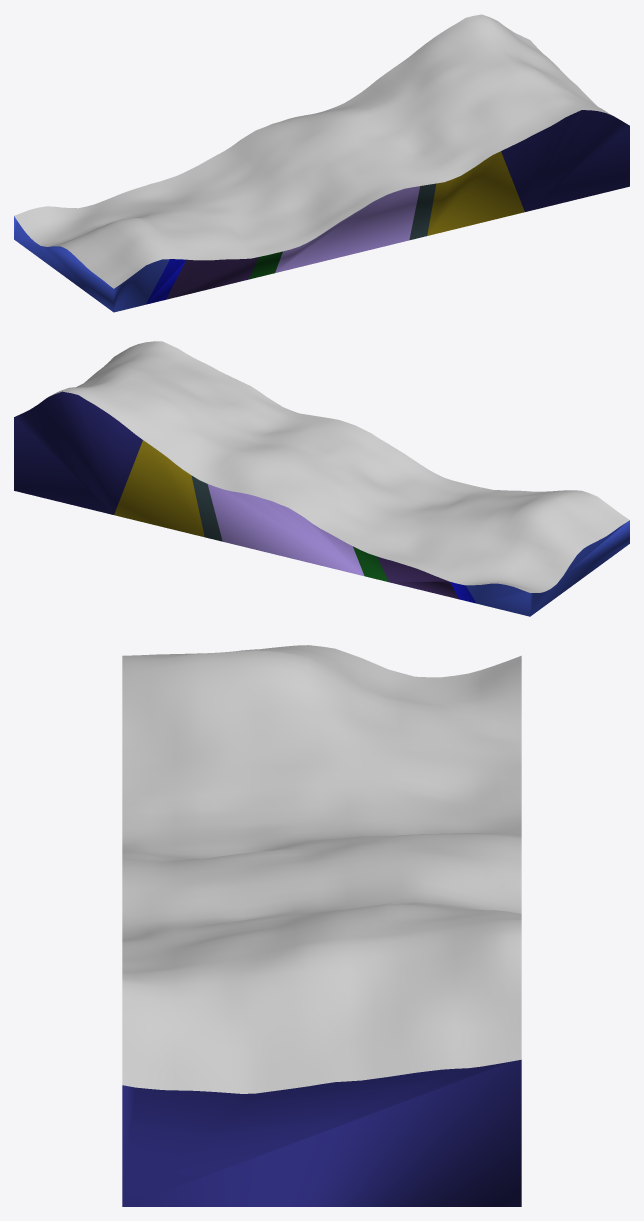
File: stub2.obj
The picture shows the model from 3 angles, top to bottom: view 1: azimuth 30°, elevation 25°; view 2: azimuth 150°, elevation 25°; view 3: azimuth 270°, elevation 25°; orthographic projection. The views are drawn at different scales.
Parts seen in each view (by area): view 1: stub; view 2: stub; view 3: stub.
Part boxes in pixels (left/top/right/bottom): stub: left=14, top=14, right=629, bottom=312; stub: left=14, top=341, right=629, bottom=616; stub: left=122, top=645, right=521, bottom=1206.
Bounding box in the file's own units: 1070 × 221 × 358.
